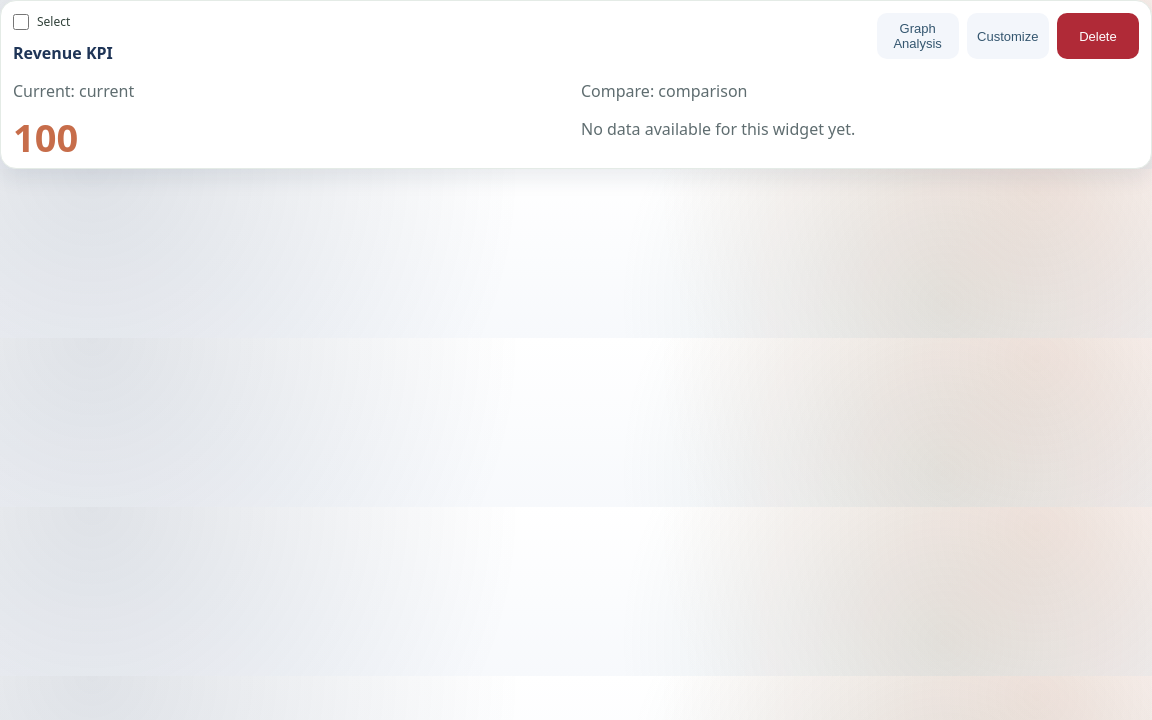
WidgetCard › shows customize form when Customize button is clicked
The image size is (1152, 720).
Click the button "Customize" at (1008, 36), box [967,13,1049,59]
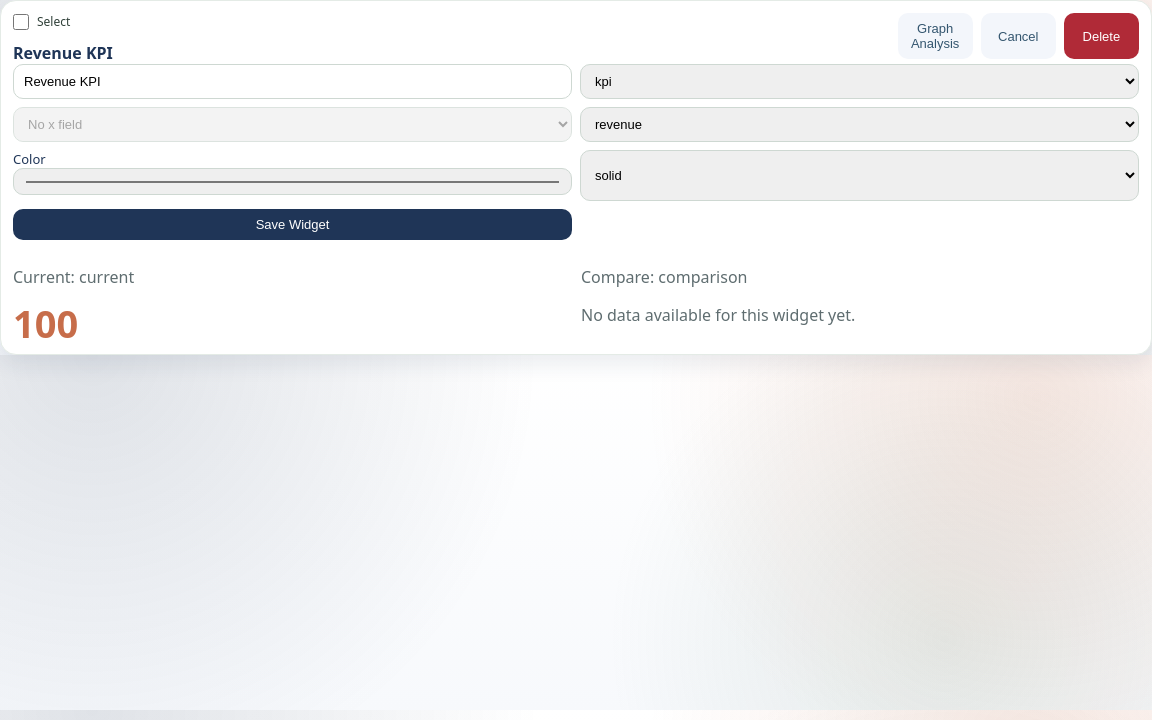
Expected: the button "Save Widget" is shown, [13,209,572,240]
